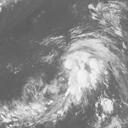cyclone: (52, 36, 115, 99)
